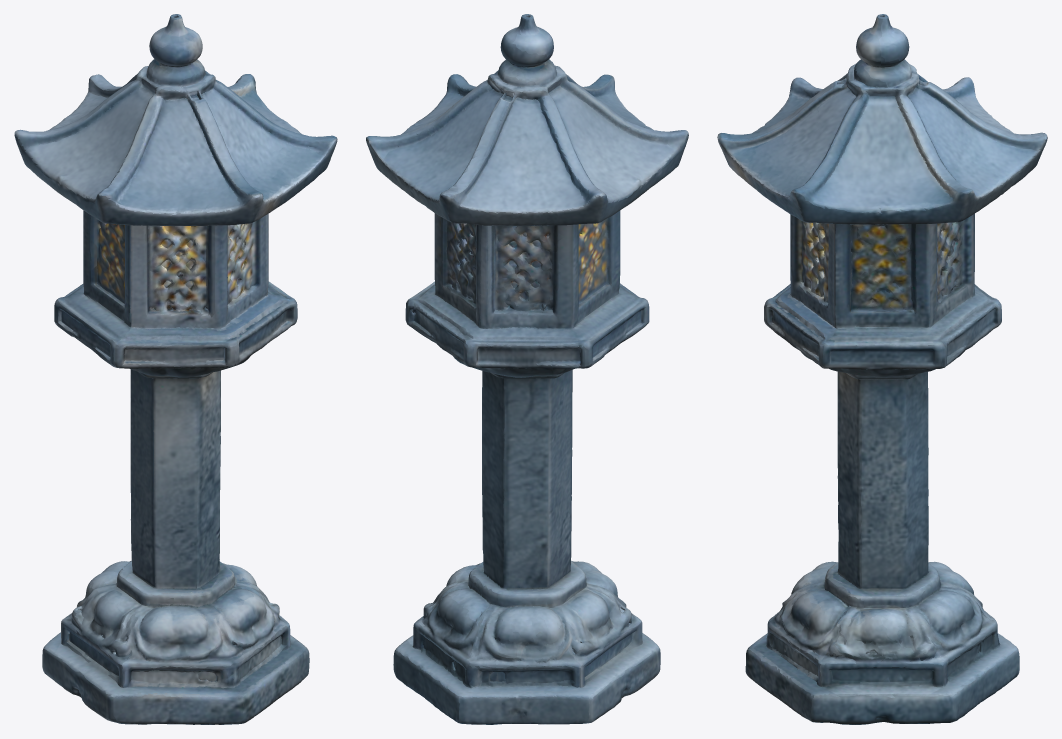
File: stone-lamp-tall_textured.glb
3 views of the same model, side by side, from view 1: azimuth 30°, elevation 25°; view 2: azimuth 150°, elevation 25°; view 3: azimuth 270°, elevation 25° (orthographic).
Visible parts, largest first — view 1: geometry_0; view 2: geometry_0; view 3: geometry_0.
Part boxes in pixels (x1,y1,x2,y2): geometry_0: (14, 14, 337, 724); geometry_0: (366, 14, 688, 724); geometry_0: (717, 14, 1047, 724).
Size of the model in its own units: 0.6801 by 1.8 by 0.8142.
1 material, 1 textured.
